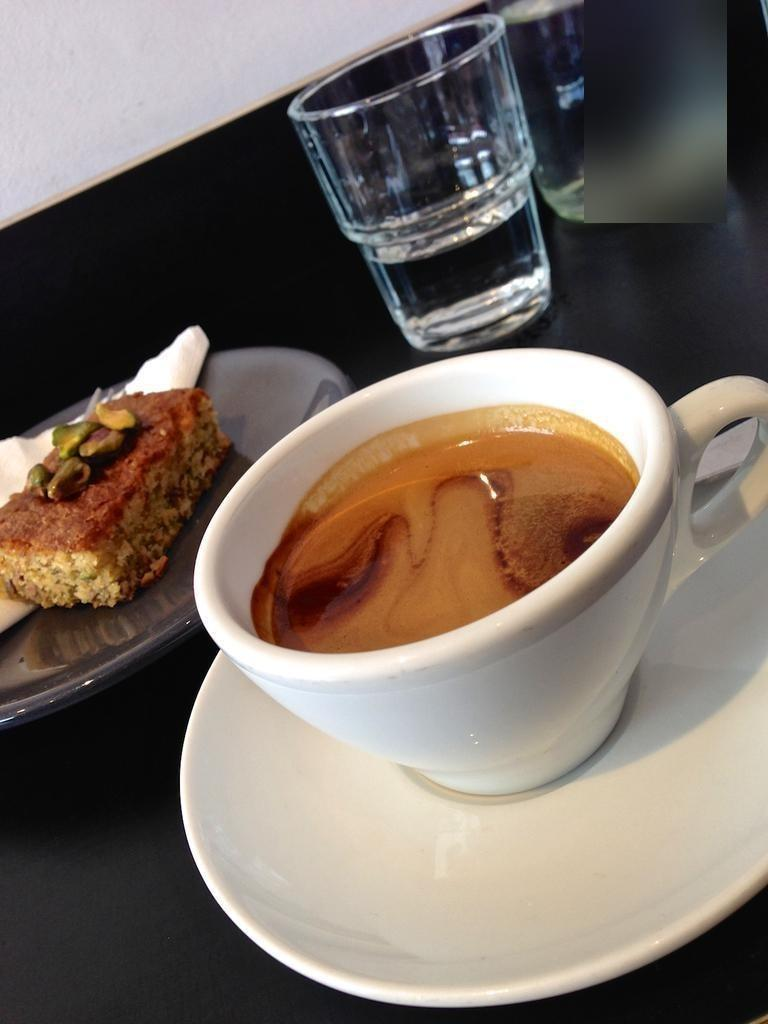cup-handle: (192, 348, 767, 794)
glass-normal: (285, 10, 556, 355)
